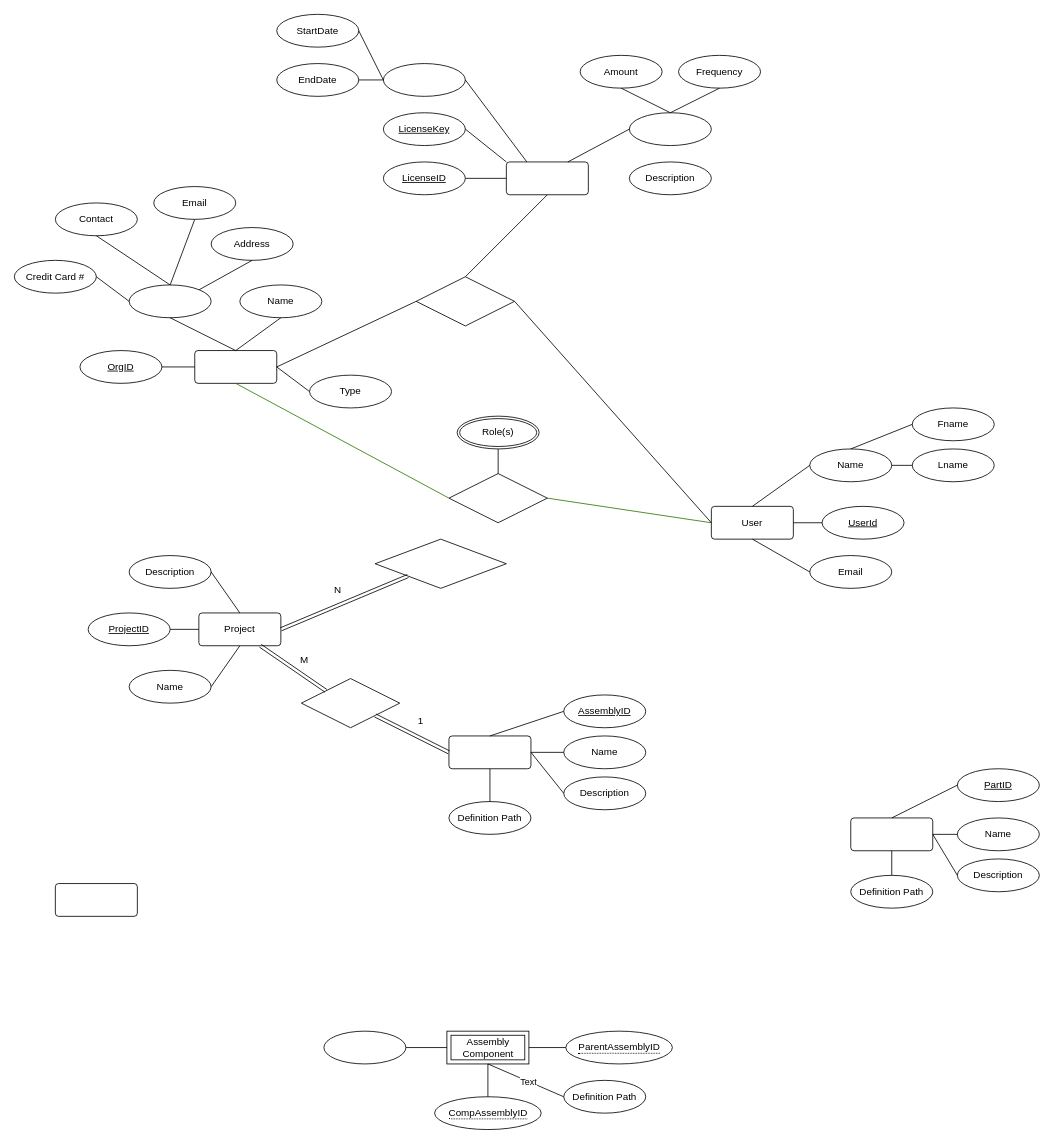
Some shapes in this 1054 by 1144 pixel diagram are drawn without their labels. The centre of each missing label's shape, as x and y in pixels:
"Billing Info" belongs at (x=169, y=301).
"CompPartID" belongs at (x=364, y=1047).
"Cost" belongs at (x=670, y=129).
"Dates" belongs at (x=424, y=79).
"License" belongs at (x=547, y=178).
"Material" belongs at (x=96, y=899).
"Org Membership" belongs at (x=497, y=498).
"Organization" belongs at (x=235, y=366).
"Owns / Allocated" belongs at (x=465, y=301).
"Part" belongs at (x=891, y=834).
"Project Collaboration" belongs at (x=440, y=563).
"Relationship" belongs at (x=350, y=703).
"Top Level Assembly" belongs at (x=489, y=752).
